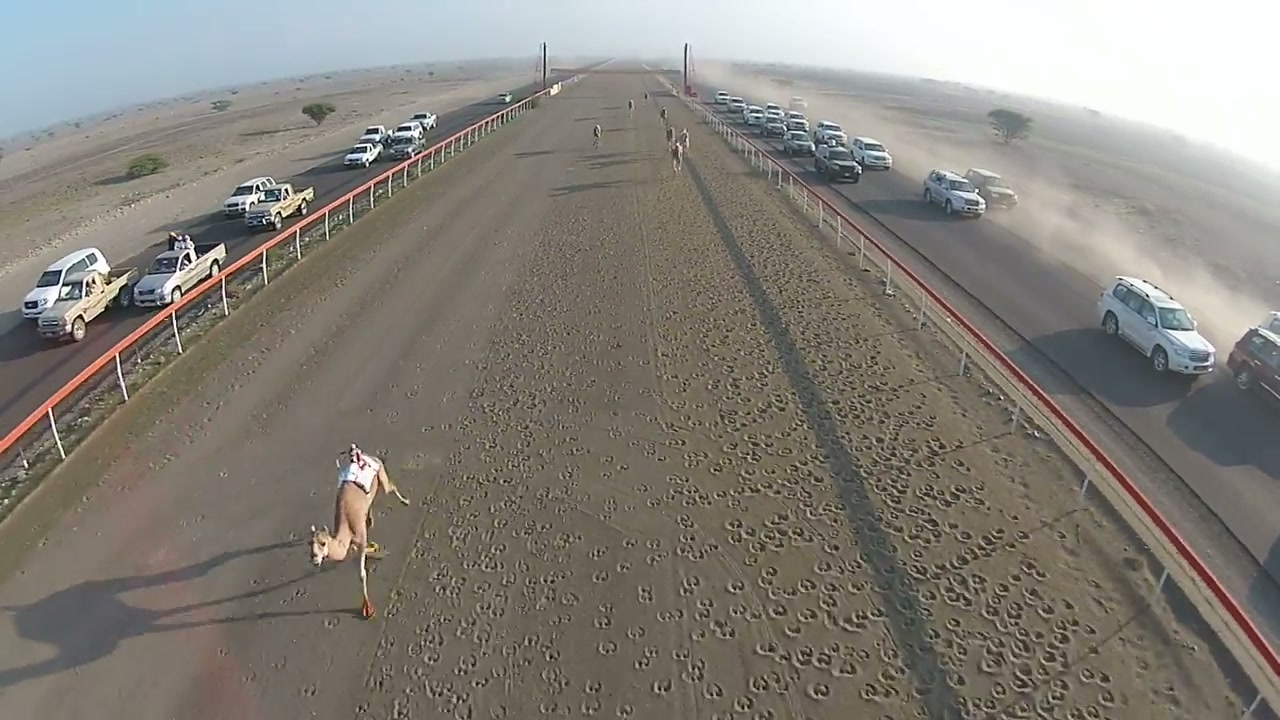animal_footprint: (368, 130, 1242, 719)
